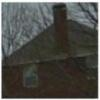chimneys: (53, 1, 70, 51)
